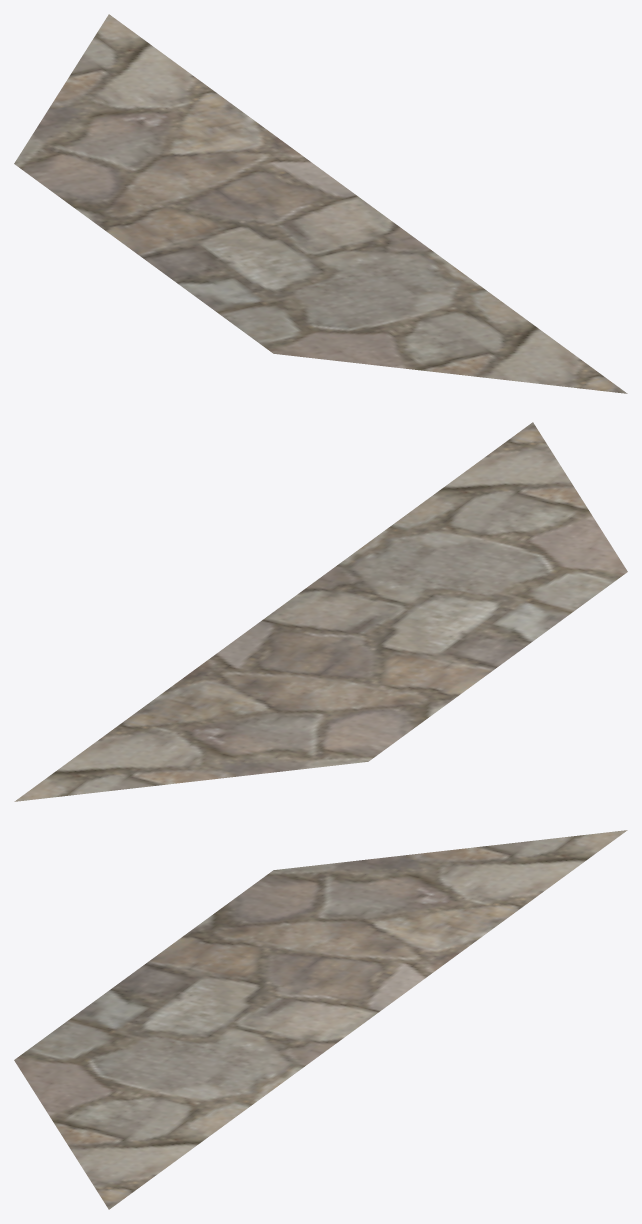
The model's file is towerblock_floor.glb.
3 renders of one model, top to bottom at view 1: azimuth 30°, elevation 25°; view 2: azimuth 150°, elevation 25°; view 3: azimuth 330°, elevation 25°, orthographic.
Visible parts, largest first — view 1: towerblock_floor; view 2: towerblock_floor; view 3: towerblock_floor.
Part boxes in pixels (box(x1,y1,x2,y2)): towerblock_floor: box(14, 14, 627, 393); towerblock_floor: box(14, 422, 627, 801); towerblock_floor: box(14, 830, 627, 1209).
Size of the model in its own units: 2 by 2.98e-07 by 8.
1 material, 1 textured.
